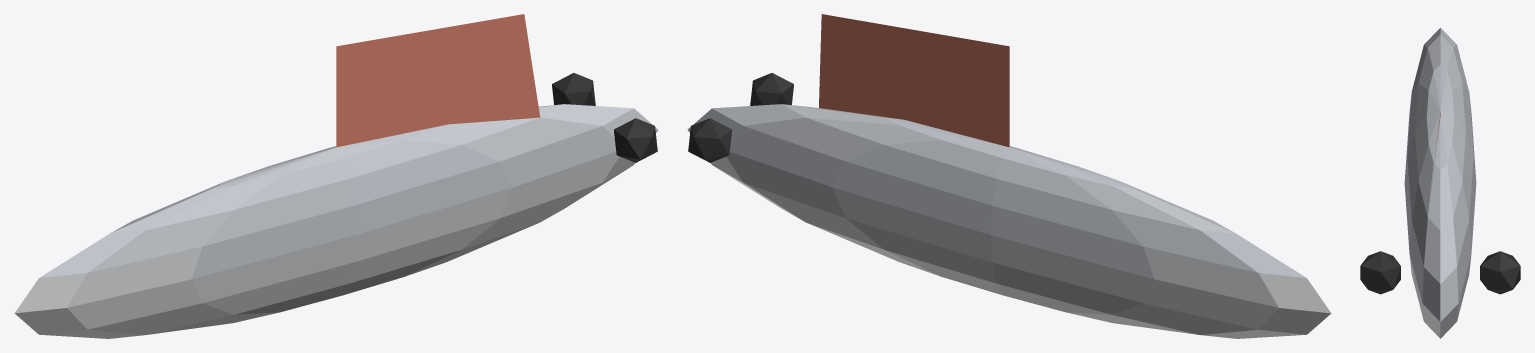
File: Oarfish.glb
3 views of the same model, side by side, from view 1: azimuth 30°, elevation 25°; view 2: azimuth 150°, elevation 25°; view 3: azimuth 270°, elevation 25° (orthographic). The views are drawn at different scales.
Visible parts, largest first — view 1: Oarfish; view 2: Oarfish; view 3: Oarfish.
Part boxes in pixels (x1,y1,x2,y2): Oarfish: (14,14,658,338); Oarfish: (687,14,1331,338); Oarfish: (1360,28,1520,338).
Size of the model in its own units: 1.2 by 0.444 by 0.2681.
